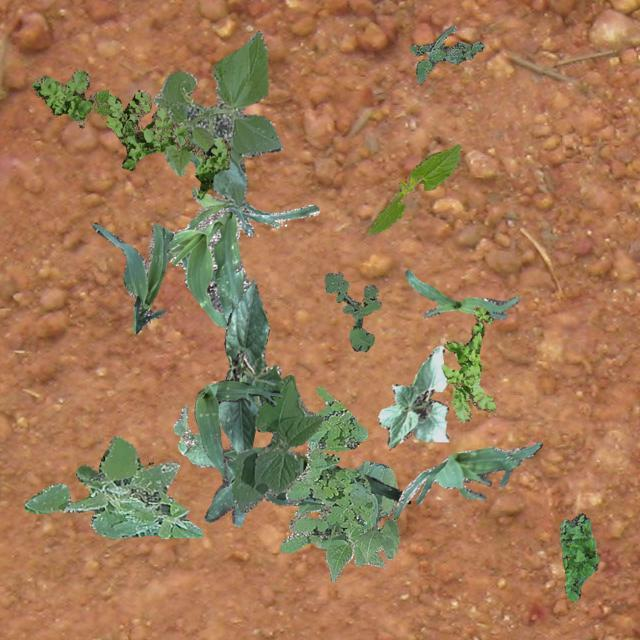crop: (152, 30, 282, 206), (166, 186, 318, 326), (204, 442, 400, 526), (230, 374, 324, 511), (294, 460, 398, 580), (392, 440, 542, 518), (218, 276, 280, 452), (91, 222, 172, 332), (366, 143, 461, 235), (193, 378, 279, 476), (377, 344, 448, 448), (403, 268, 518, 318), (172, 404, 215, 466)
weed: (31, 70, 230, 198), (23, 434, 202, 538), (278, 386, 372, 552), (440, 304, 494, 422), (408, 24, 484, 82), (324, 272, 379, 351), (558, 512, 598, 600)
